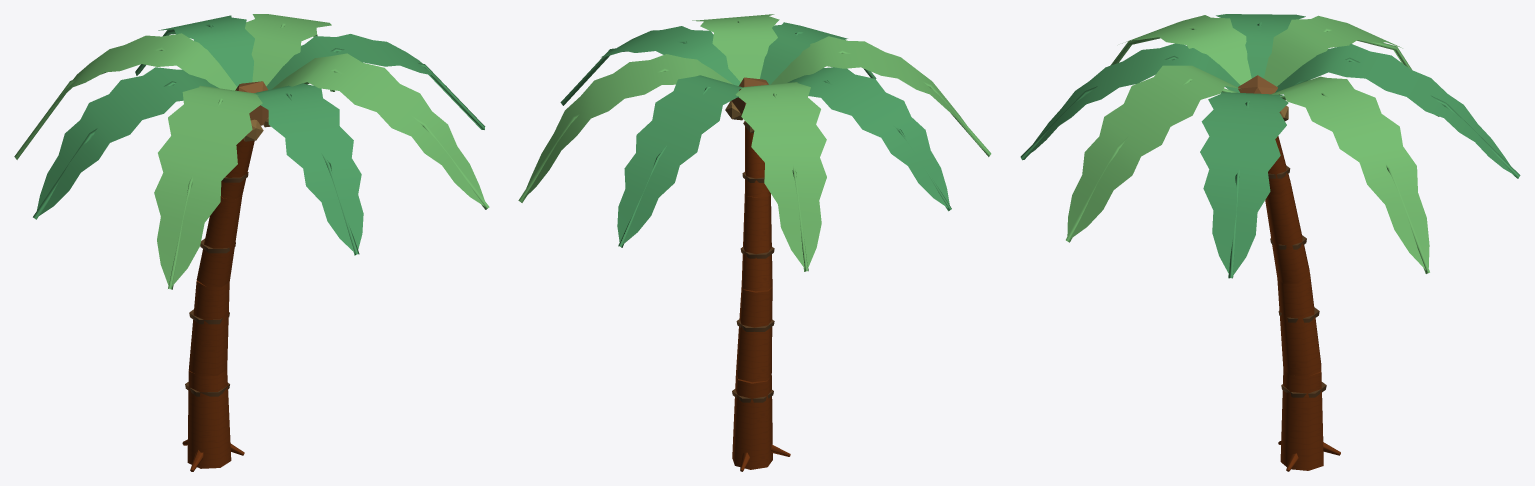
Rendered from coastal-palm.glb.
3 views of the same model, side by side, from view 1: azimuth 30°, elevation 25°; view 2: azimuth 150°, elevation 25°; view 3: azimuth 270°, elevation 25° (orthographic). The views are drawn at different scales.
Parts seen in each view (by area): view 1: Merged_foliage-light, Merged_foliage, Merged_bark, Merged_palm-trunk-ring, Merged_palm-crown; view 2: Merged_foliage-light, Merged_foliage, Merged_bark, Merged_palm-trunk-ring; view 3: Merged_foliage-light, Merged_foliage, Merged_bark, Merged_palm-trunk-ring.
Boxes of the visible parts, <box> form: Merged_foliage-light: <box>14,14,489,289</box>; Merged_foliage: <box>33,15,485,255</box>; Merged_bark: <box>182,139,254,471</box>; Merged_palm-trunk-ring: <box>185,172,248,396</box>; Merged_palm-crown: <box>235,81,268,125</box>; Merged_foliage-light: <box>518,14,991,271</box>; Merged_foliage: <box>560,22,951,247</box>; Merged_bark: <box>732,126,790,471</box>; Merged_palm-trunk-ring: <box>732,172,774,402</box>; Merged_foliage-light: <box>1066,15,1439,273</box>; Merged_foliage: <box>1020,14,1520,278</box>; Merged_bark: <box>1265,136,1340,471</box>; Merged_palm-trunk-ring: <box>1268,165,1326,397</box>.
Size of what is drawn, in the model's own units: 5.1 by 4.64 by 5.02.
Materials: 6 (1 with a texture image).
